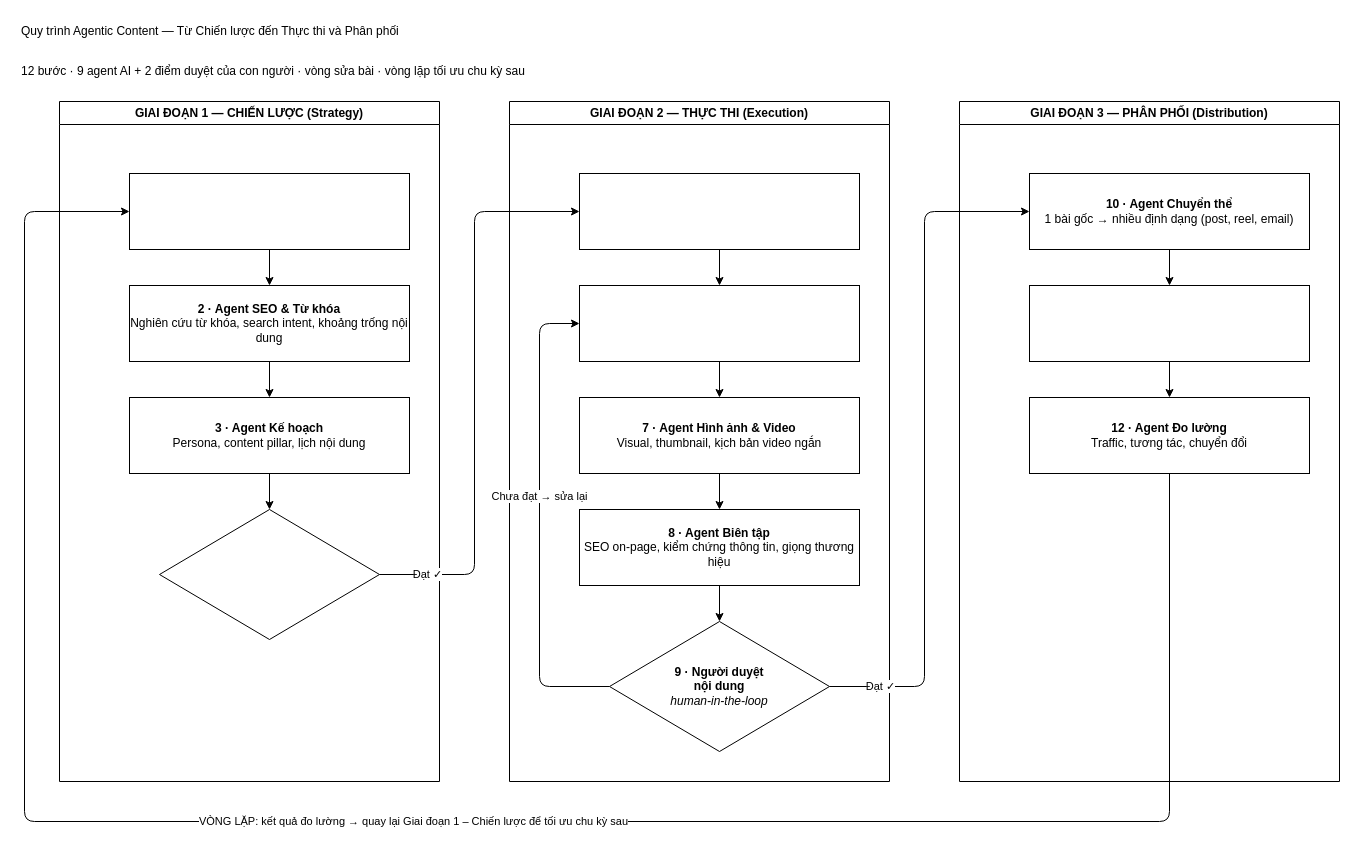
This 1357x847 diagram has some shape labels left out. Each missing label, with the centre of its shape:
"1 · Agent Nghiên cứu Phân tích thị trường, đối thủ, insight khách hàng" goes at point 269,211.
"11 · Agent Đăng bài Lên lịch & đăng: Website, Fanpage, TikTok, YouTube, Email" goes at point 1169,323.
"4 · Người duyệt chiến lược human-in-the-loop" goes at point 269,574.
"5 · Agent Brief Dàn ý, outline, thông điệp chính" goes at point 719,211.
"6 · Agent Viết Bản nháp bài blog, fanpage, PR" goes at point 719,323.
